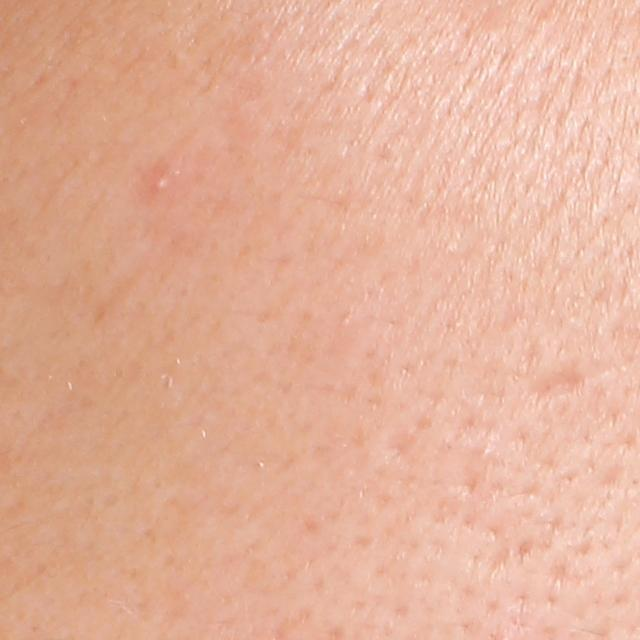atrophic_scar: (370, 406, 436, 467), (521, 367, 588, 405)
comedo: (149, 167, 178, 194)
